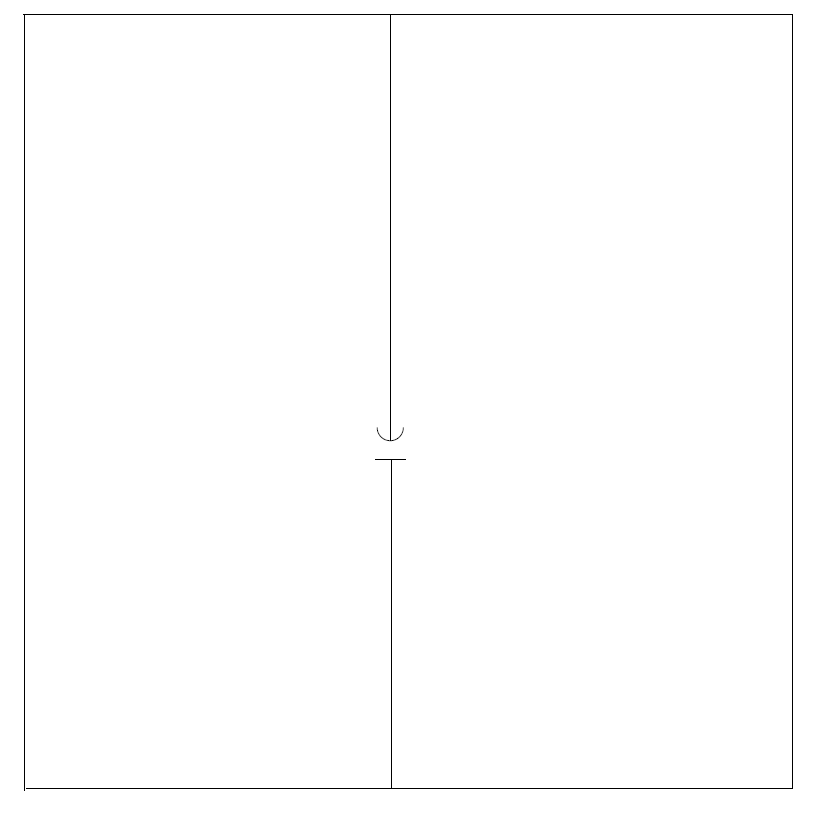CAP: (363, 417, 423, 472)
